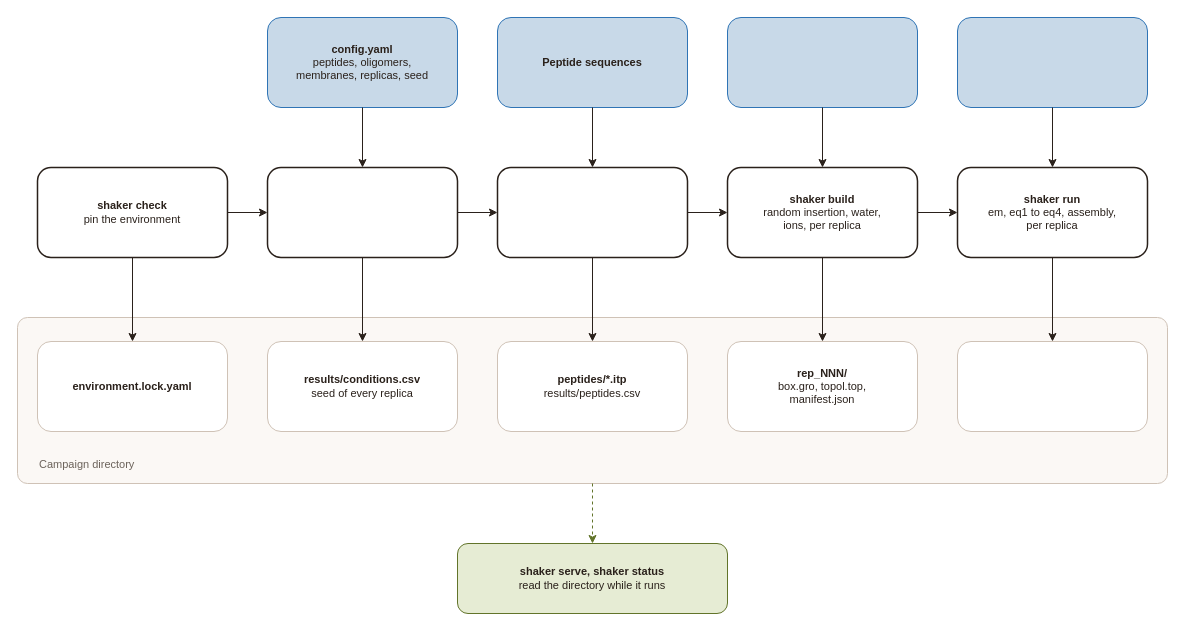
Image size: 1185x631. Some labels were removed from this diagram. Here are the shapes that lost their labels. From the top down, the box of each, then its label:
(726, 16, 918, 108): Lipid library 113 lipids, Martini 3
(956, 16, 1148, 108): GROMACS em.mdp, md.mdp
(266, 166, 458, 258): shaker plan one round per peptide, oligomer state, membrane
(496, 166, 688, 258): shaker prepare ideal helix, martinize2, descriptors
(956, 340, 1148, 432): rep_NNN/ gro, xtc, edr, cpt, run.json, events.jsonl
